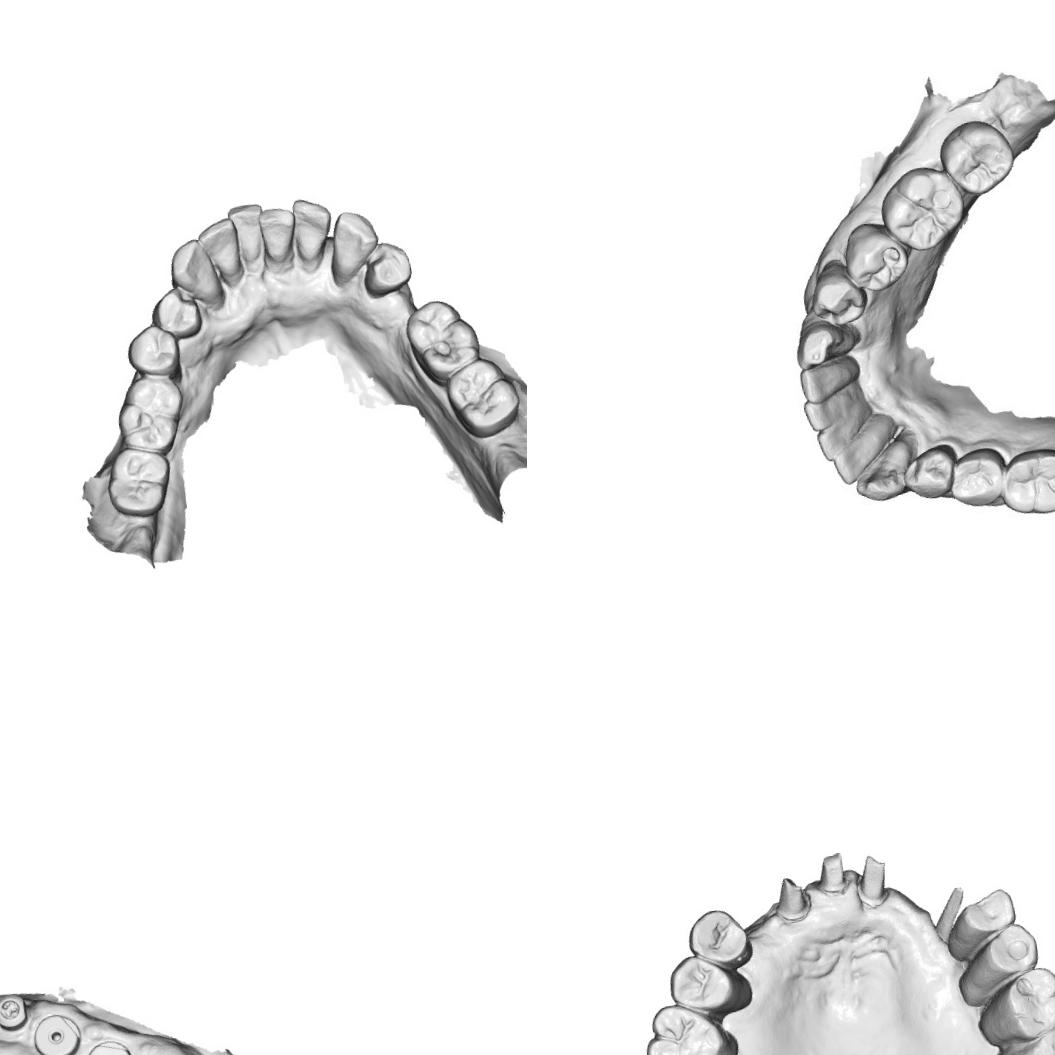canine: (850, 433, 924, 503), (164, 235, 226, 315), (322, 206, 384, 285), (793, 316, 864, 370)
crown: (929, 886, 971, 946), (852, 852, 892, 910), (771, 872, 814, 924), (812, 850, 850, 898)
implant: (29, 1009, 85, 1055), (0, 991, 33, 1034), (82, 1037, 137, 1055)
incisor: (828, 424, 900, 486), (290, 194, 340, 272), (817, 408, 890, 460), (196, 215, 245, 288), (226, 201, 271, 276), (256, 204, 303, 275), (802, 380, 872, 426), (800, 356, 864, 399)
molar: (401, 295, 485, 391), (440, 352, 526, 444), (880, 163, 967, 250), (971, 963, 1055, 1051), (110, 372, 190, 458), (639, 995, 743, 1055), (102, 440, 176, 522), (942, 121, 1013, 191), (998, 442, 1055, 519), (986, 1021, 1055, 1055)
premolar: (950, 920, 1044, 1010), (664, 947, 756, 1023), (940, 886, 1022, 963), (682, 902, 756, 977), (841, 216, 907, 291), (808, 260, 873, 333), (950, 448, 1010, 514), (124, 320, 184, 382), (358, 238, 416, 300), (148, 282, 204, 343), (906, 444, 956, 499)
